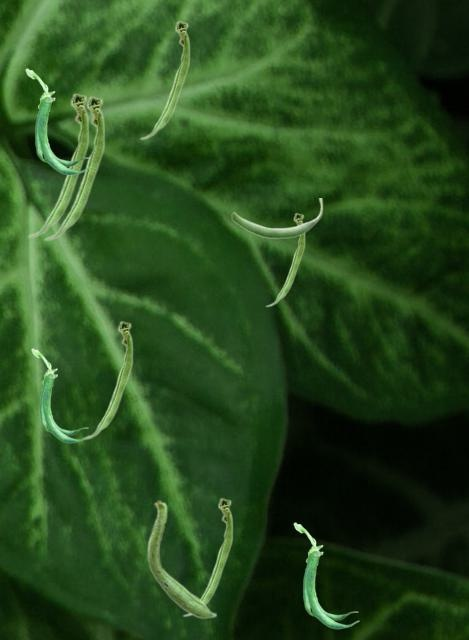french_bean: (43, 95, 104, 240), (27, 92, 88, 237), (147, 499, 216, 618), (293, 522, 358, 628), (25, 68, 90, 174), (182, 497, 232, 616), (139, 20, 189, 139), (82, 320, 132, 439), (31, 348, 88, 442), (265, 212, 304, 306), (231, 198, 322, 238)
